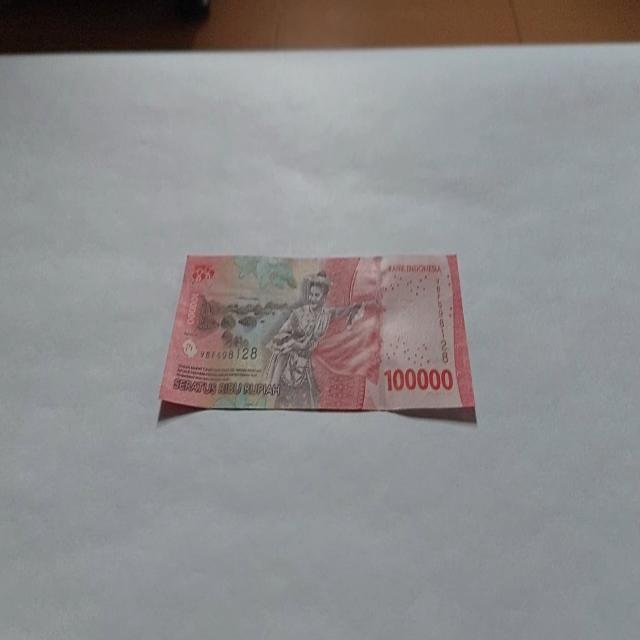seratus ribu rupiah: (157, 250, 477, 424), (256, 267, 366, 409)
